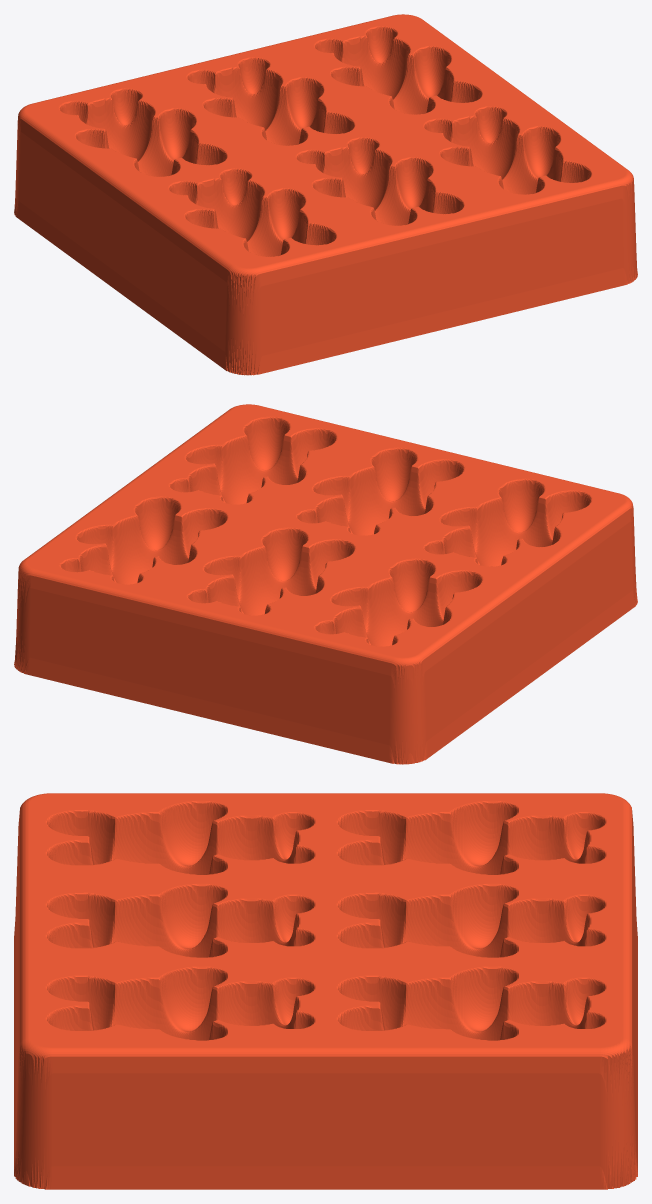
Rendered from mold.glb.
3 views of the same model, one above another, from view 1: azimuth 30°, elevation 25°; view 2: azimuth 150°, elevation 25°; view 3: azimuth 270°, elevation 25° (orthographic). The views are drawn at different scales.
Parts seen in each view (by area): view 1: geometry_0; view 2: geometry_0; view 3: geometry_0.
Part boxes in pixels (x1,y1,x2,y2): geometry_0: (14, 14, 637, 375); geometry_0: (14, 404, 637, 764); geometry_0: (14, 793, 637, 1189).
Size of the model in its own units: 0.1514 by 0.036 by 0.1499.
